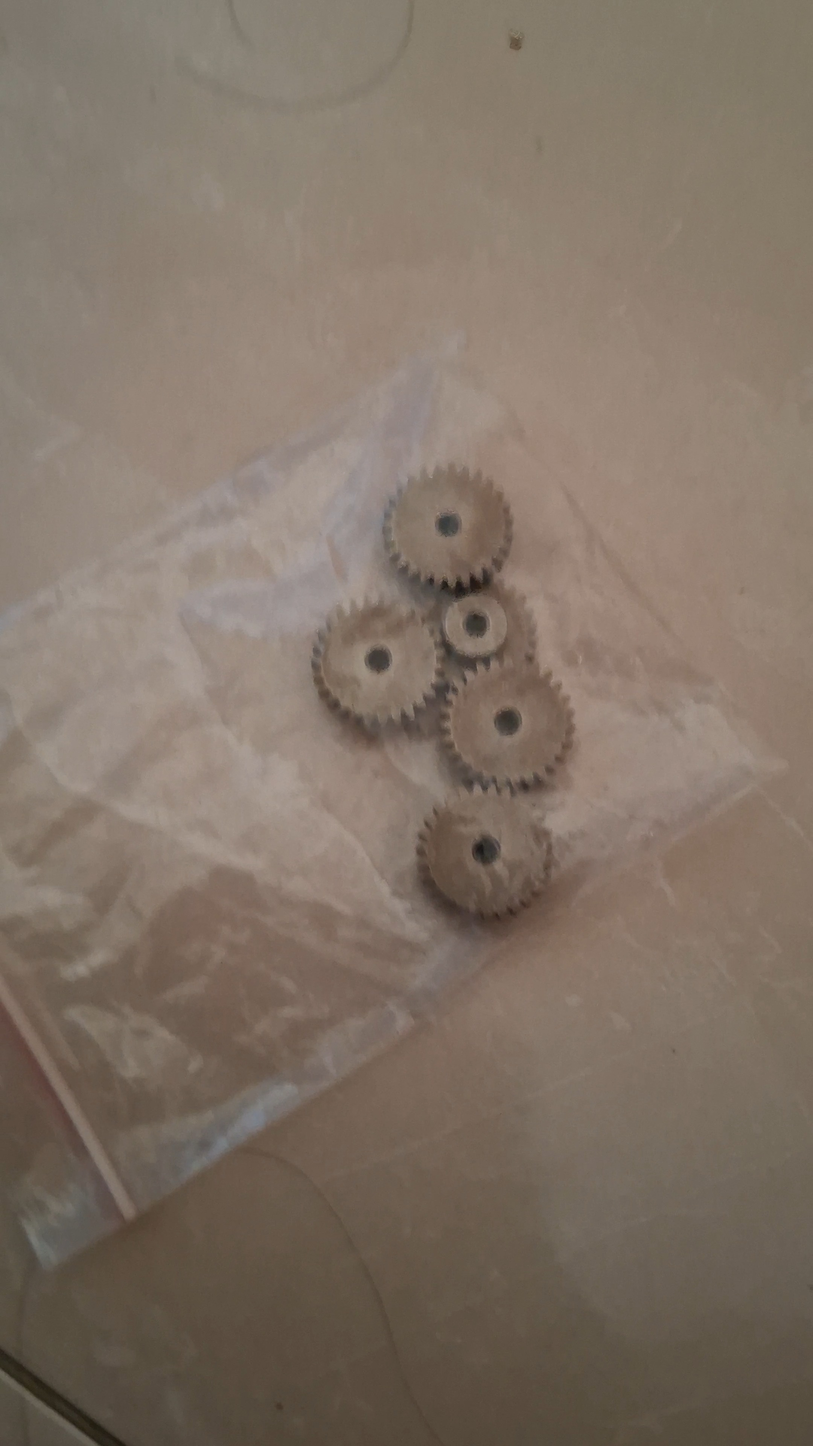spur gear: (417, 789, 552, 917), (441, 661, 574, 790), (312, 601, 442, 727), (383, 466, 512, 590), (442, 582, 535, 664)
